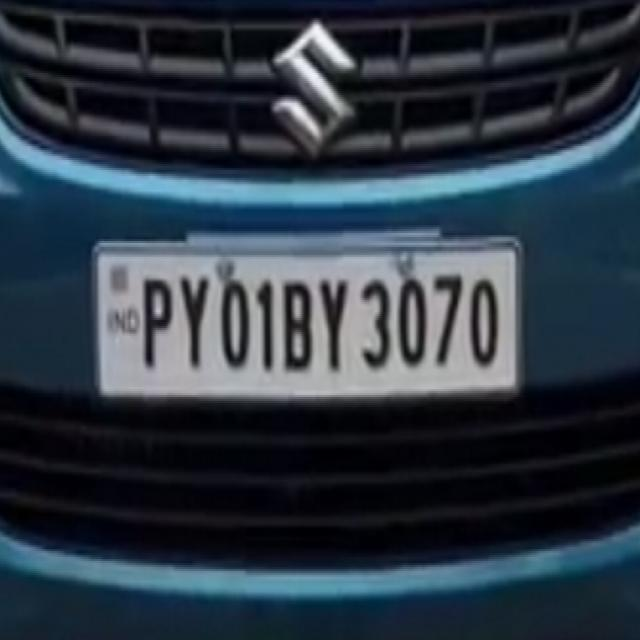0: (394, 278, 431, 378), (471, 272, 504, 376), (220, 272, 252, 372)
1: (252, 271, 278, 375)
3: (356, 274, 392, 381)
7: (430, 263, 464, 378)
B: (279, 271, 315, 375)
P: (138, 273, 178, 372)
Y: (174, 268, 213, 377), (316, 272, 352, 380)
